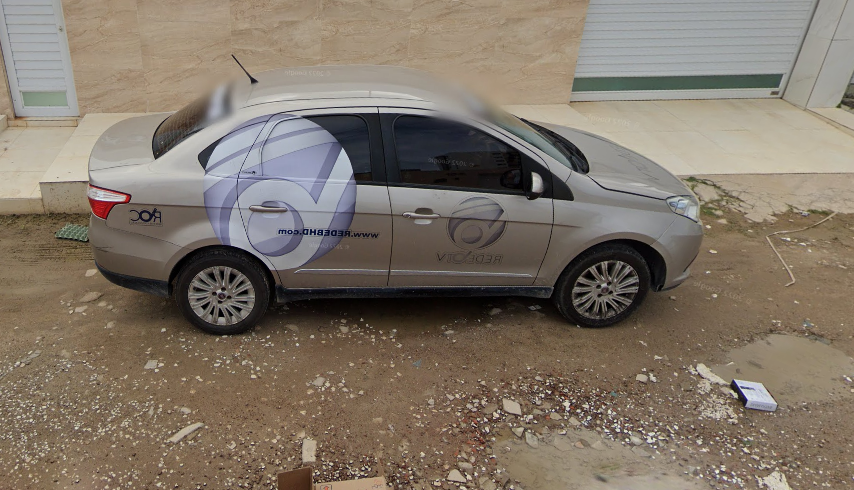car: (78, 44, 706, 364)
